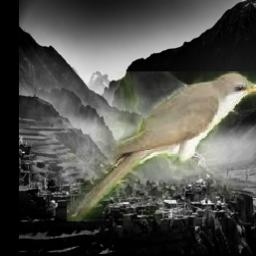Cuckoo: (68, 72, 256, 222)
